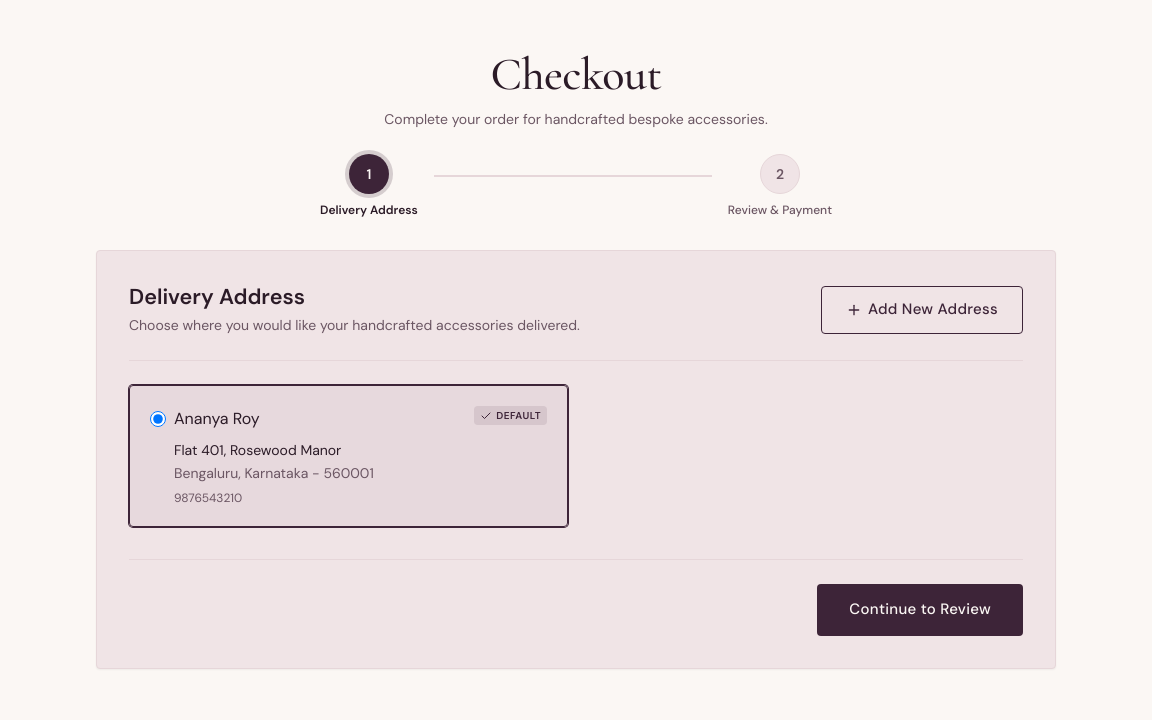
Test: FE-29: Checkout flow › Order Review, Pricing, and Payment Handoff › lists items with options and totals from API without calculating in frontend
This screenshot has width=1152, height=720.
Step 1. Click the button with test id "continue-to-review-btn" → (920, 610), box [817,584,1023,636]
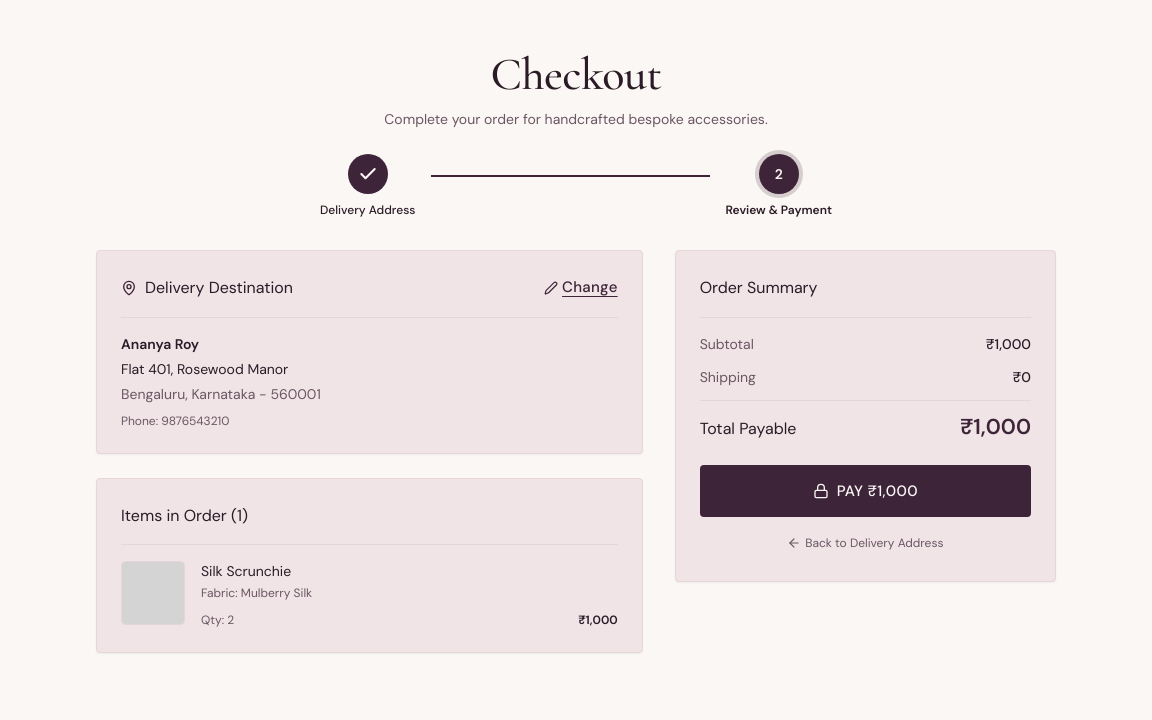
Check: the heading "Silk Scrunchie" is shown, box [201,562,291,580]
Check: the text "Fabric: Mulberry Silk" is shown, box [201,585,312,601]
Check: the text "Qty: 2" is shown, box [201,612,234,628]
